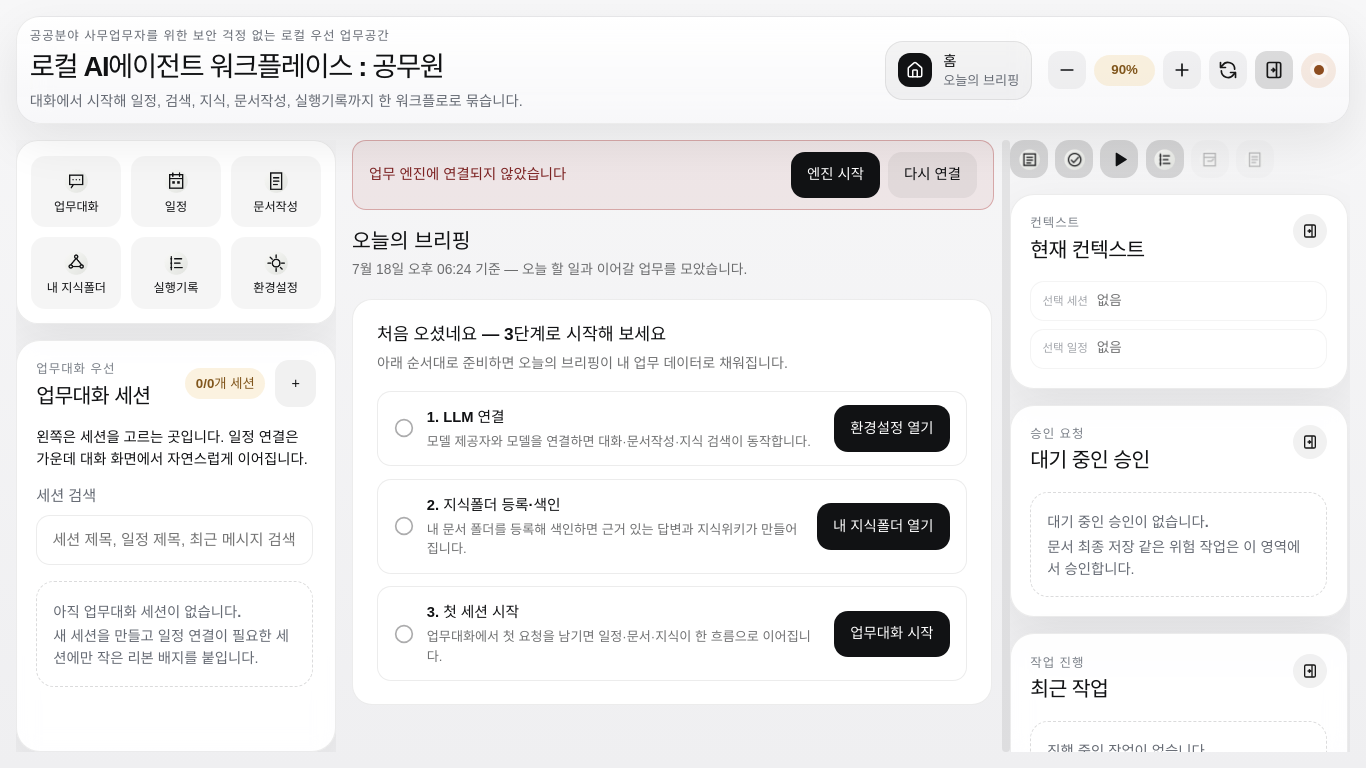
it: work session file links › links a searched file through the file link modal (D-04)
Click the button "업무대화": [76, 192] box [31,156,121,227]
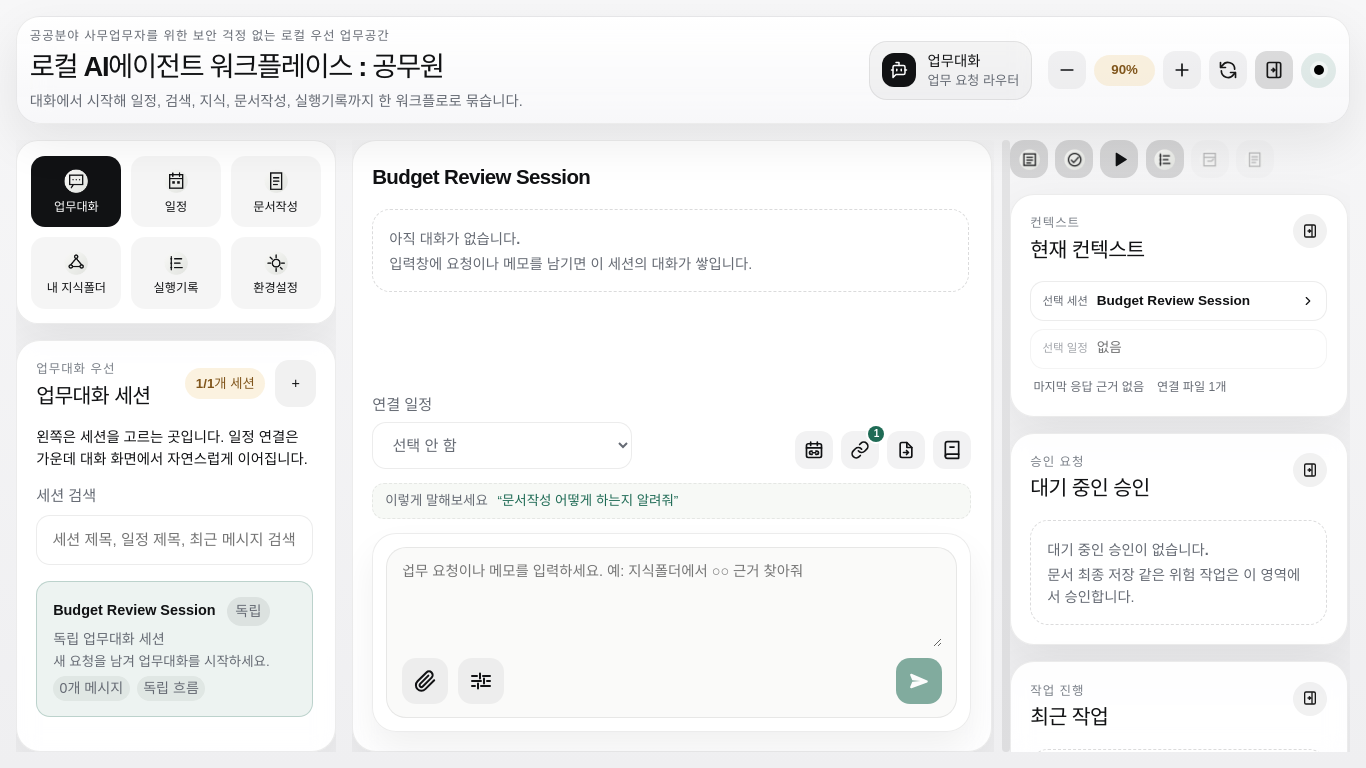
Now the element with test id "chat-workspace" is shown, box [372,209,971,732]
Click the button named "파일 연결": [860, 450] box [841,431,879,469]
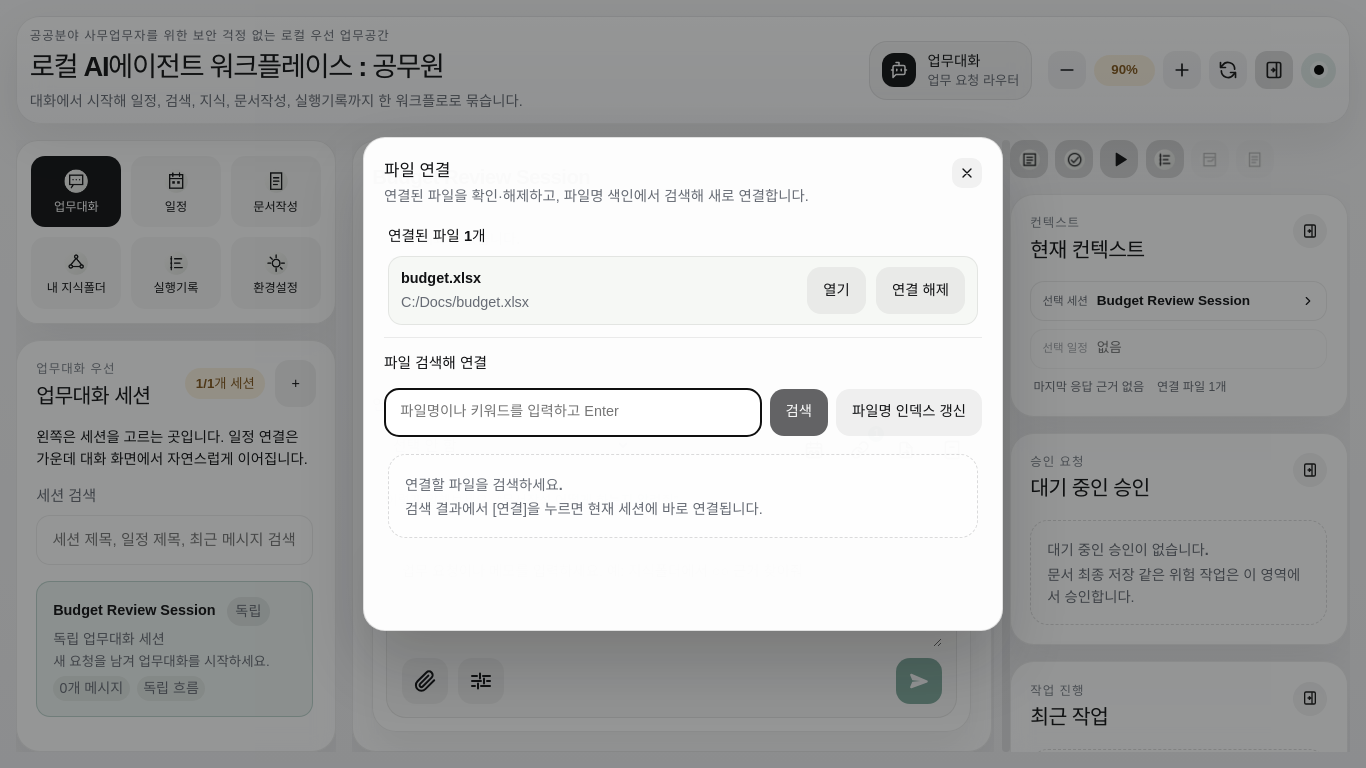
Now the text with test id "chat-file-link-count" reads "연결된 파일 1개", box [388,228,486,244]
In the field with test id "chat-file-link-search-input": [573, 412] box [384,388,762,437], type "예산"
Then press Enter
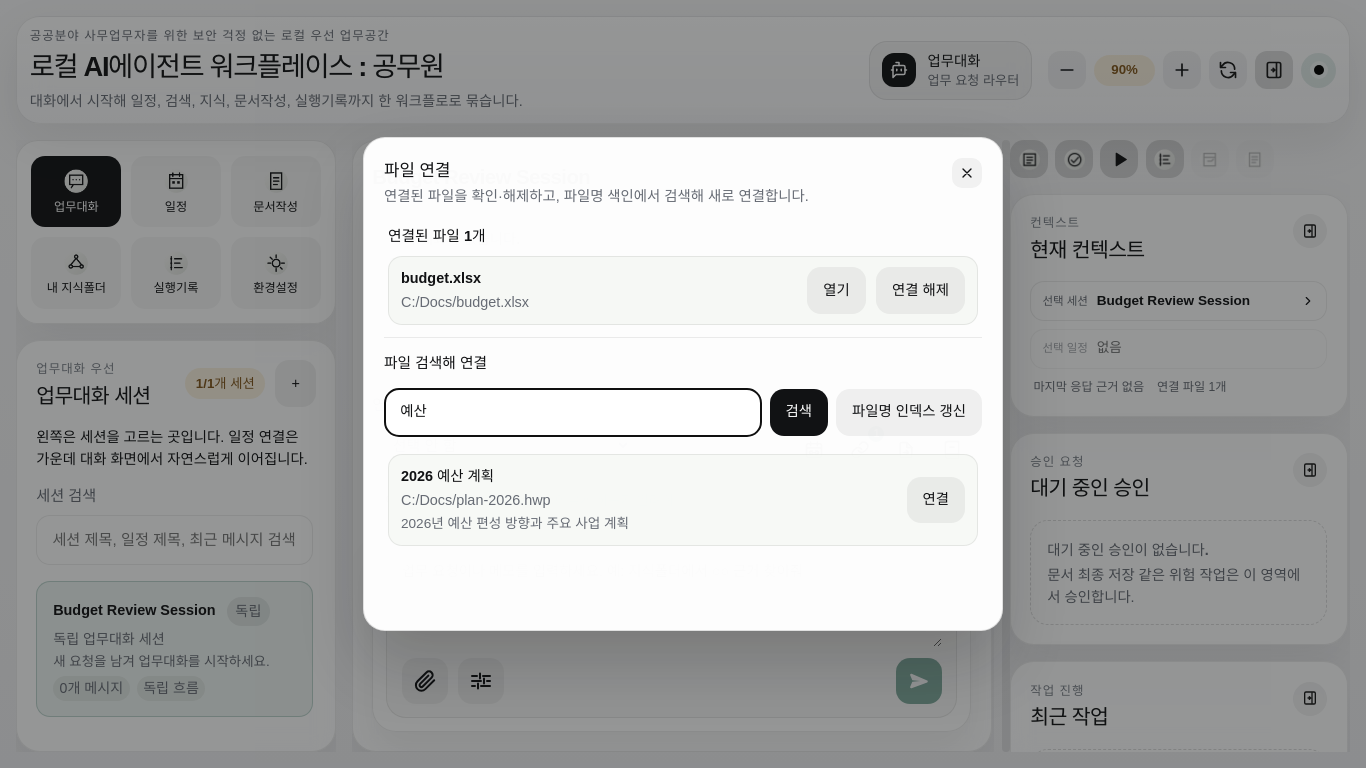
Now the text "2026 예산 계획" is shown, box [401,468,494,484]
Now the text "C:/Docs/plan-2026.hwp" is shown, box [401,492,551,508]
Now the text "2026년 예산 편성 방향과 주요 사업 계획" is shown, box [401,514,629,534]
Click the button "연결": [936, 500] box [906,477,965,523]
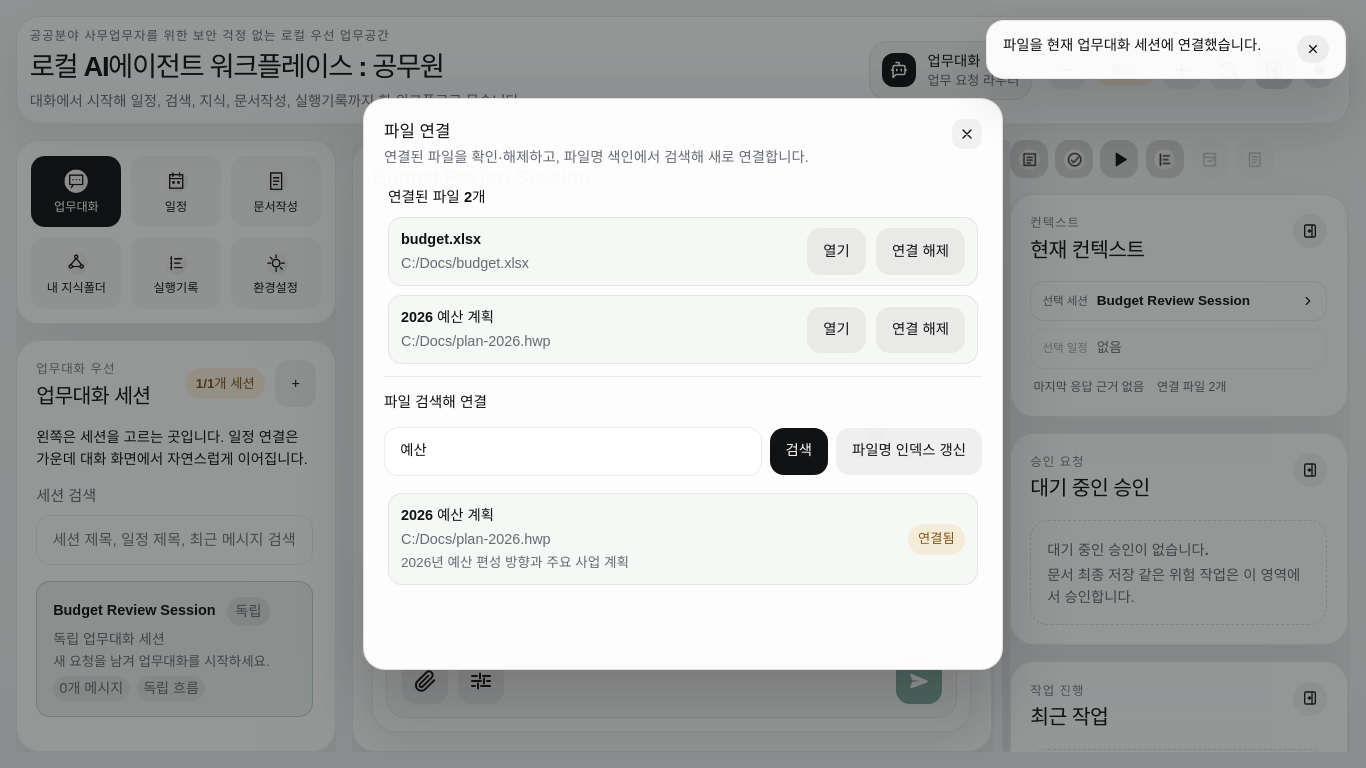
Now the text with test id "chat-file-link-linked" reads "연결됨", box [918,531,955,546]
Now the text with test id "chat-file-link-count" reads "연결된 파일 2개", box [388,189,486,205]
Press Escape
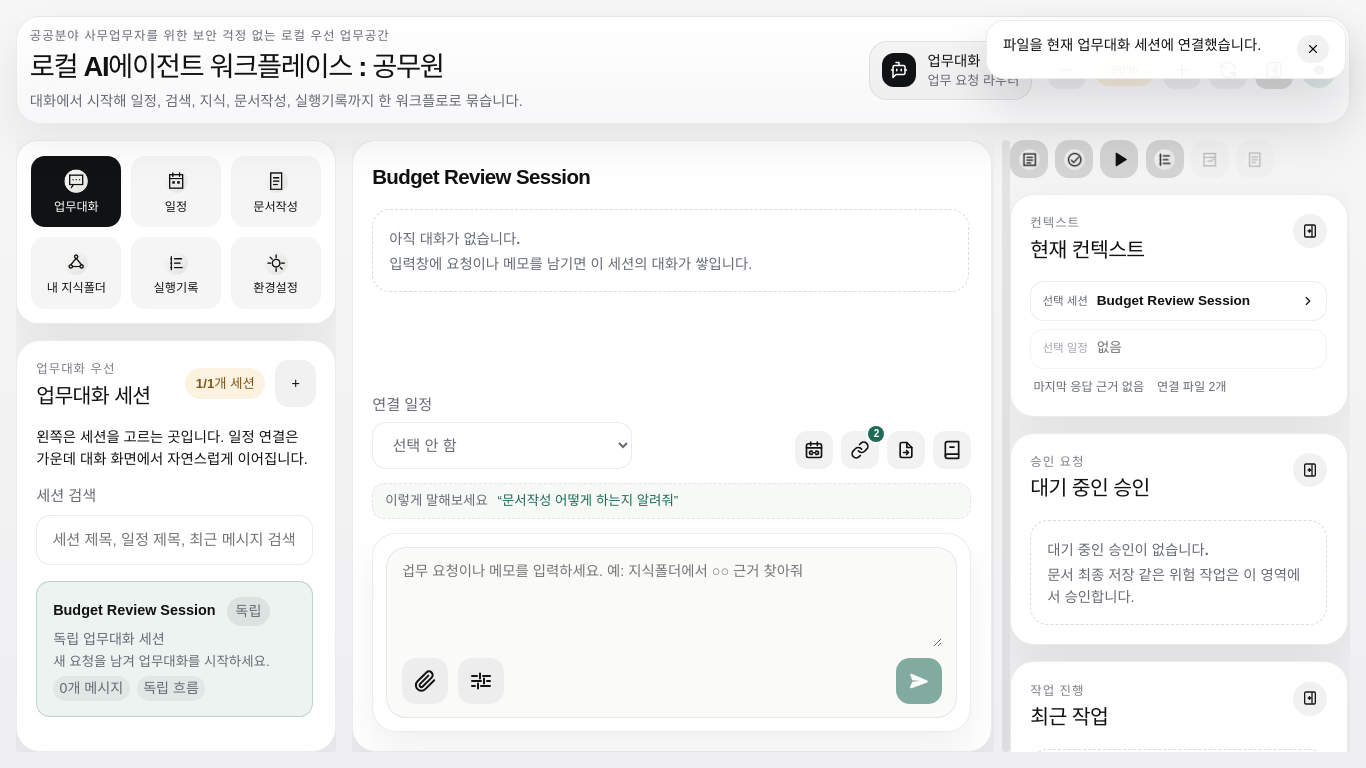
Now the element with test id "chat-workspace" is shown, box [372,209,971,732]
Now the dialog with test id "chat-file-link-modal" is gone
